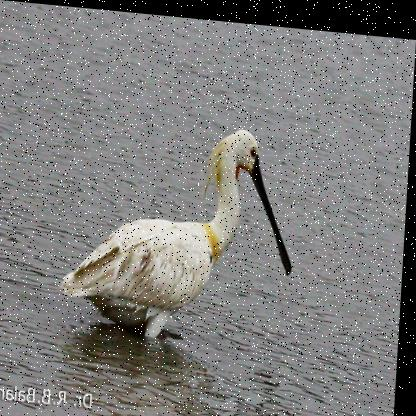Burung: (60, 111, 301, 348)
